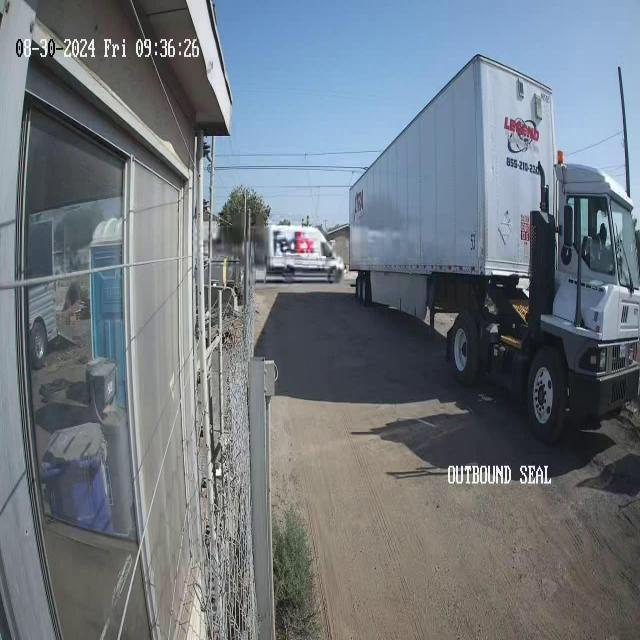TRUCK_CONTAINER: (348, 53, 640, 440)
